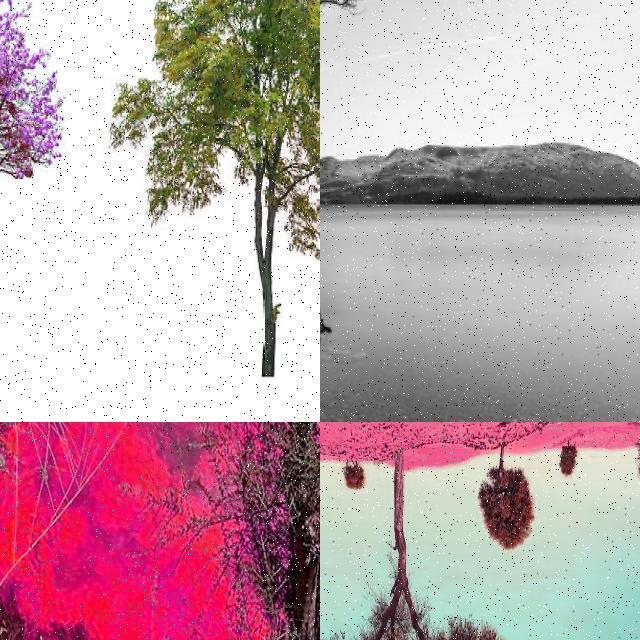tree: (108, 0, 320, 390), (0, 0, 142, 362), (320, 432, 512, 640), (320, 0, 436, 304), (196, 422, 320, 640), (477, 442, 535, 552), (343, 456, 365, 492), (559, 437, 577, 479)
